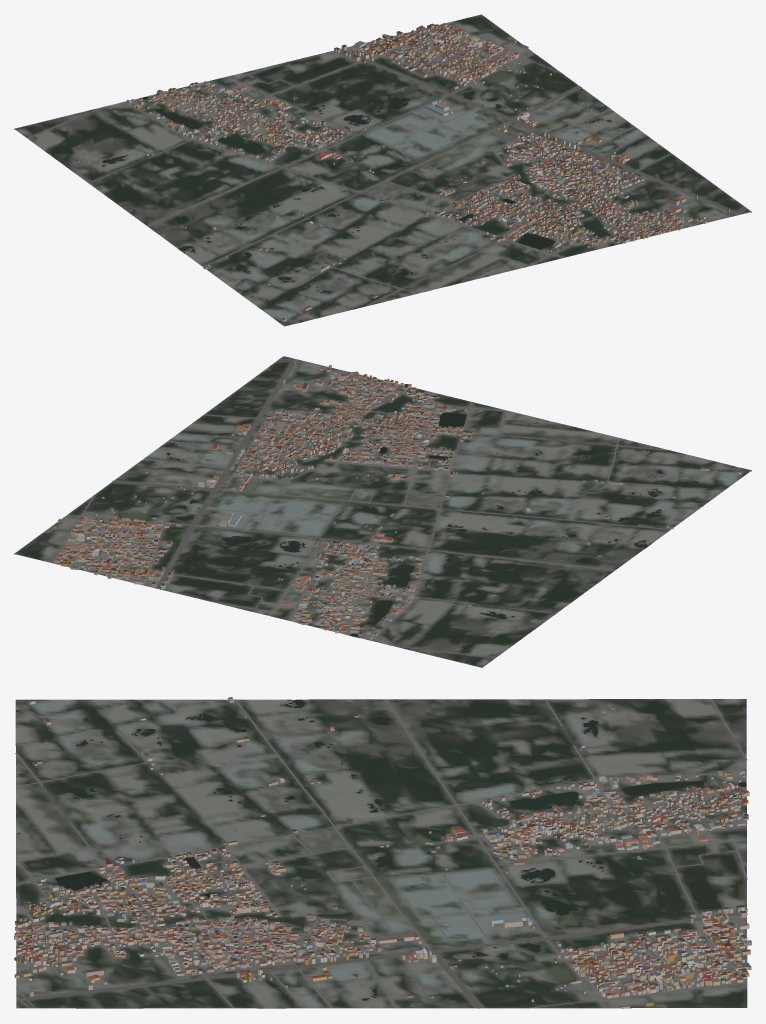
The picture shows the model from 3 angles, top to bottom: view 1: azimuth 30°, elevation 25°; view 2: azimuth 150°, elevation 25°; view 3: azimuth 270°, elevation 25°; orthographic projection. The views are drawn at different scales.
Parts seen in each view (by area): view 1: ground, buildings, roads, water; view 2: ground, buildings, roads, water; view 3: ground, buildings, roads, water.
Part boxes in pixels (x1=…): ground: x1=14, y1=14, x2=751, y2=326; buildings: x1=76, y1=23, x2=729, y2=321; roads: x1=28, y1=23, x2=747, y2=306; water: x1=102, y1=57, x2=611, y2=322; ground: x1=14, y1=356, x2=751, y2=667; buildings: x1=52, y1=360, x2=742, y2=639; roads: x1=50, y1=359, x2=670, y2=658; water: x1=166, y1=398, x2=735, y2=636; ground: x1=15, y1=699, x2=747, y2=1008; buildings: x1=14, y1=697, x2=751, y2=1008; roads: x1=15, y1=699, x2=747, y2=1008; water: x1=16, y1=699, x2=746, y2=1000.
Size of the model in its own units: 1408 by 17.88 by 1415.
